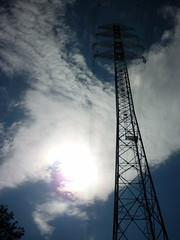power_tower: (97, 20, 175, 240)
